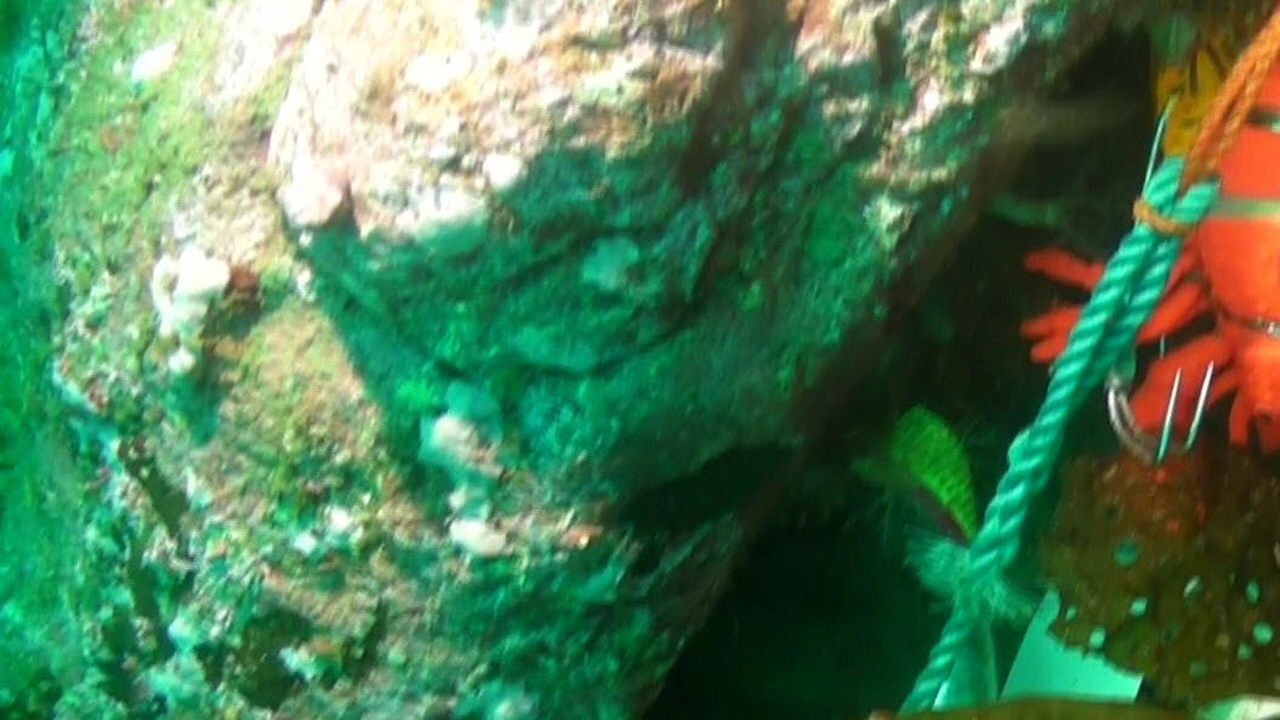bundle of ropes: (897, 0, 1280, 720)
